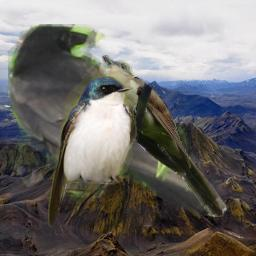Crow: (8, 24, 220, 216)
Cuckoo: (102, 55, 227, 217)
Swallow: (48, 70, 138, 227)
